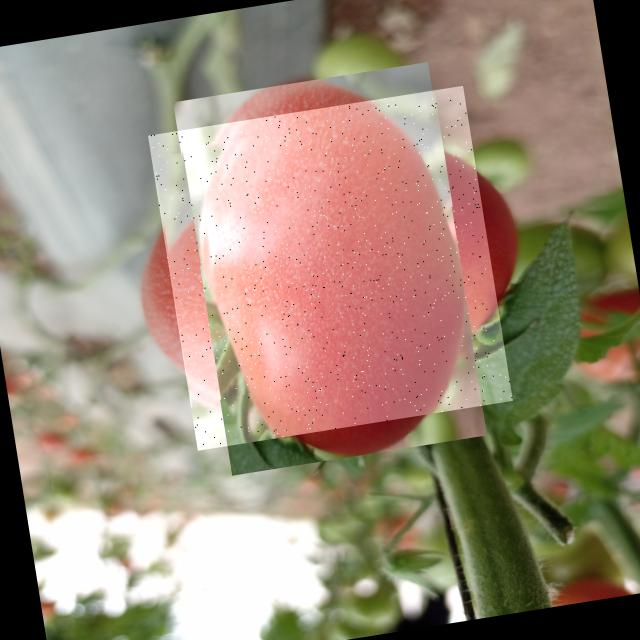Ripe Tomato: (148, 86, 513, 450)
